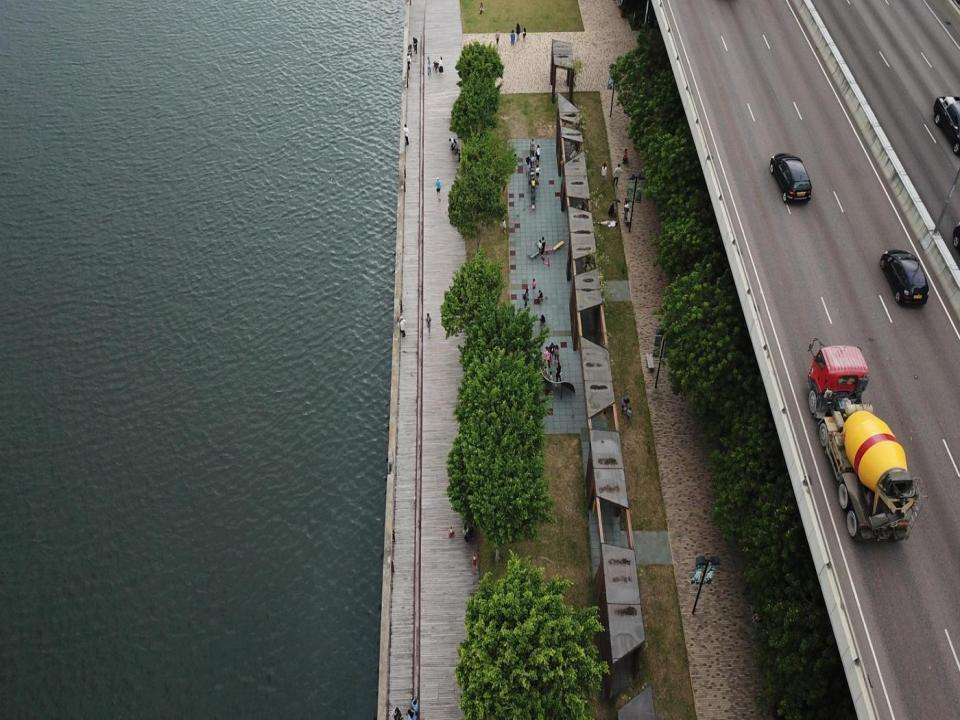car: (880, 243, 928, 309), (767, 149, 813, 206), (931, 90, 960, 153)
truck: (804, 338, 924, 545)
